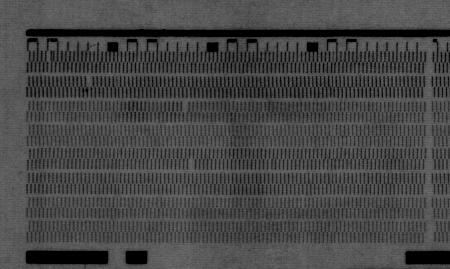Broken hole: (186, 159, 198, 171), (181, 101, 191, 113), (84, 75, 94, 86)
Oblique printing: (44, 50, 57, 62)
